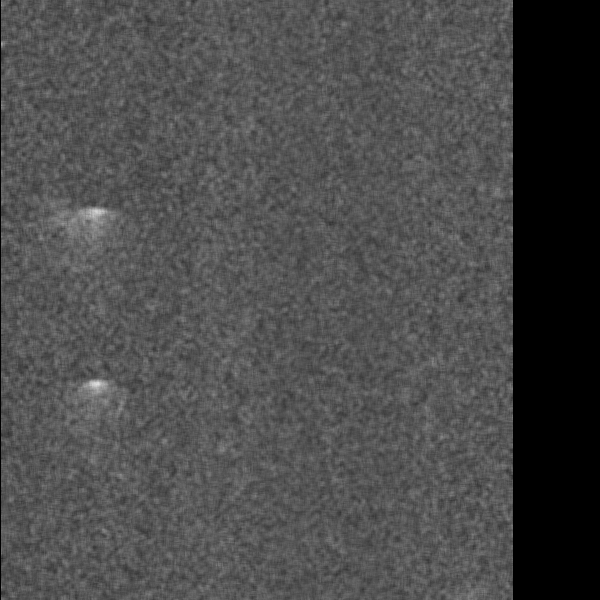spark: (73, 198, 116, 256), (81, 373, 109, 414)
